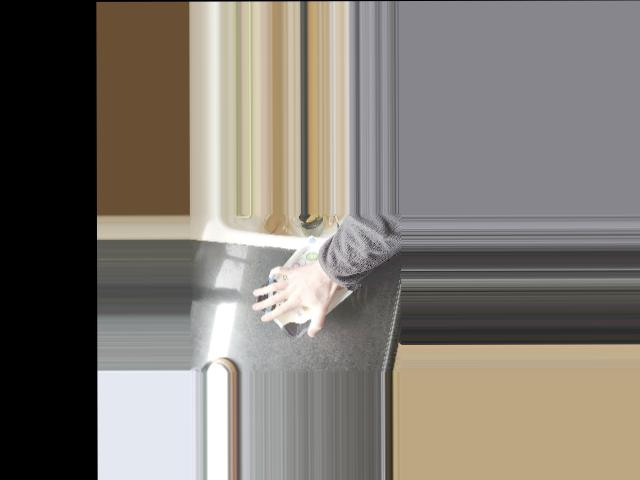cheese: (253, 231, 360, 340)
